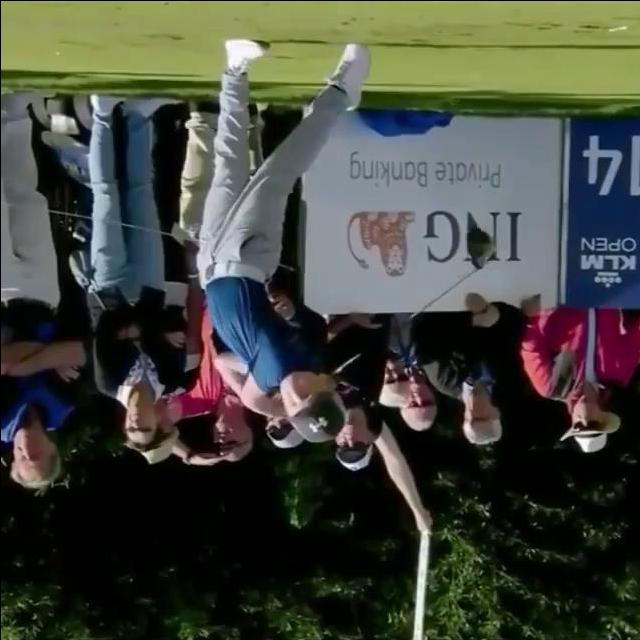golf club-handle: (331, 230, 495, 374)
golf club-head: (466, 230, 495, 268)
